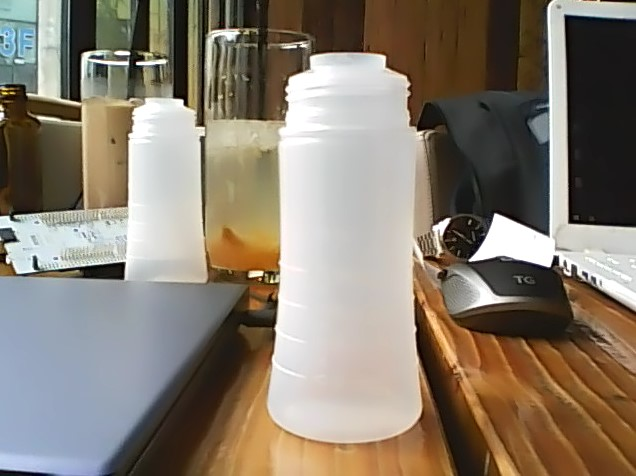Plastic: (264, 48, 426, 447)
